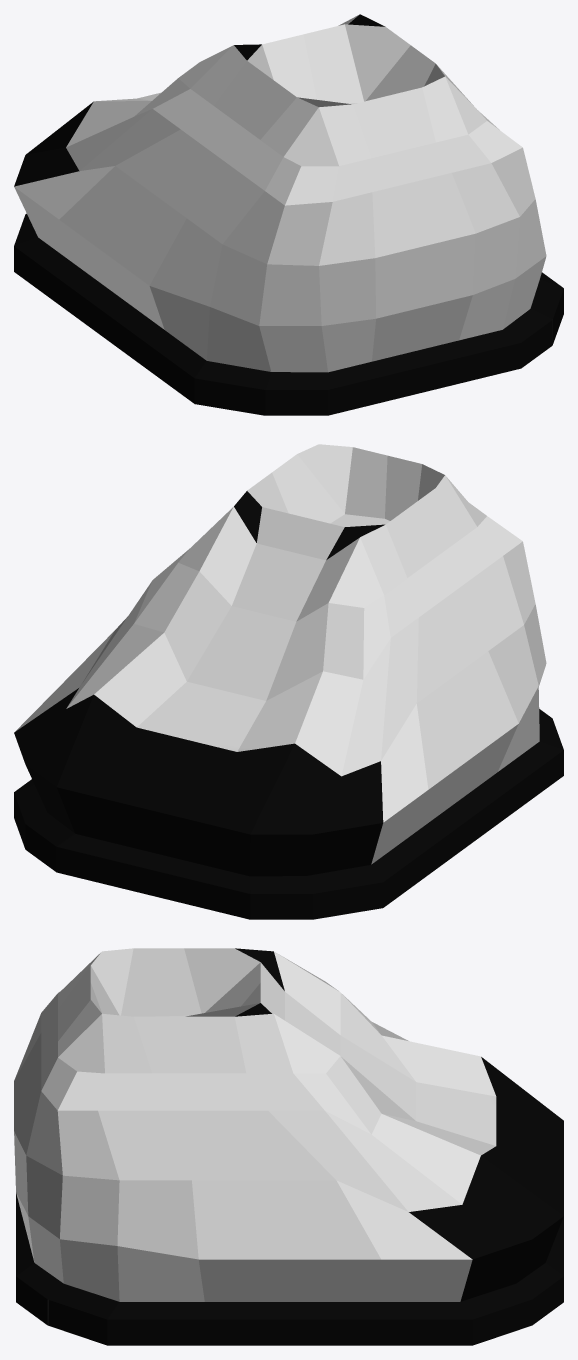
Rendered from rightLeg.obj.
3 views of the same model, one above another, from view 1: azimuth 30°, elevation 25°; view 2: azimuth 150°, elevation 25°; view 3: azimuth 270°, elevation 25° (orthographic).
Parts seen in each view (by area): view 1: RIGHT_LEG; view 2: RIGHT_LEG; view 3: RIGHT_LEG.
Part boxes in pixels (x1,y1,x2,y2): RIGHT_LEG: (14,14,563,415); RIGHT_LEG: (14,444,563,919); RIGHT_LEG: (14,948,563,1345).
Size of the model in its own units: 0.2929 by 0.204 by 0.3738.
